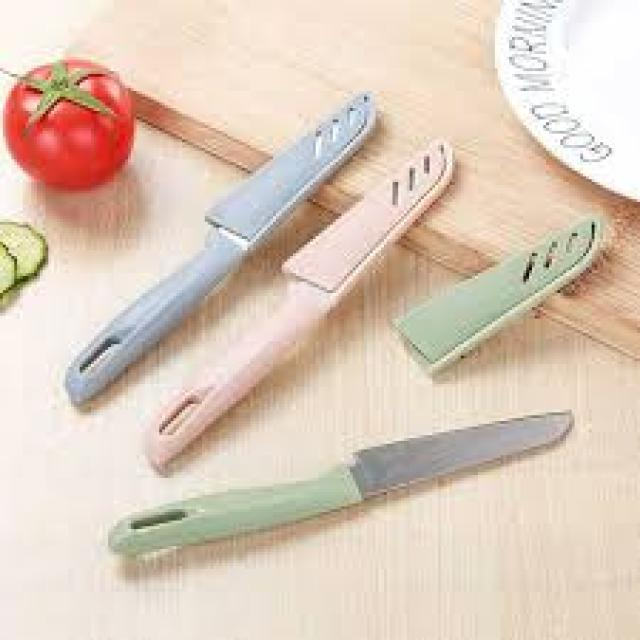Knife: (145, 142, 452, 469), (65, 94, 375, 404), (105, 412, 572, 560)
